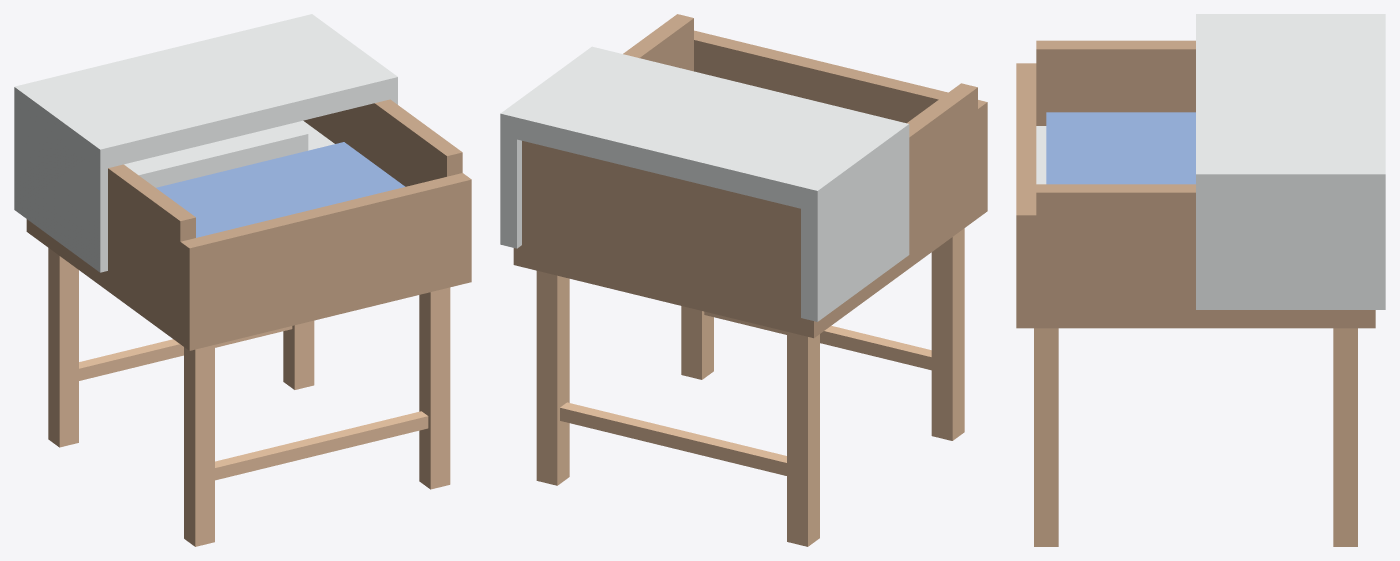
Rendered from bassinet.glb.
3 renders of one model, left to right at view 1: azimuth 30°, elevation 25°; view 2: azimuth 150°, elevation 25°; view 3: azimuth 270°, elevation 25°, orthographic. The views are drawn at different scales.
Visible parts, largest first — view 1: bassinet; view 2: bassinet; view 3: bassinet.
Boxes of the visible parts, <box> form: bassinet: <box>14,14,471,546</box>; bassinet: <box>500,14,987,546</box>; bassinet: <box>1016,14,1385,546</box>.
Size of the model in its own units: 0.38 by 0.425 by 0.37.
